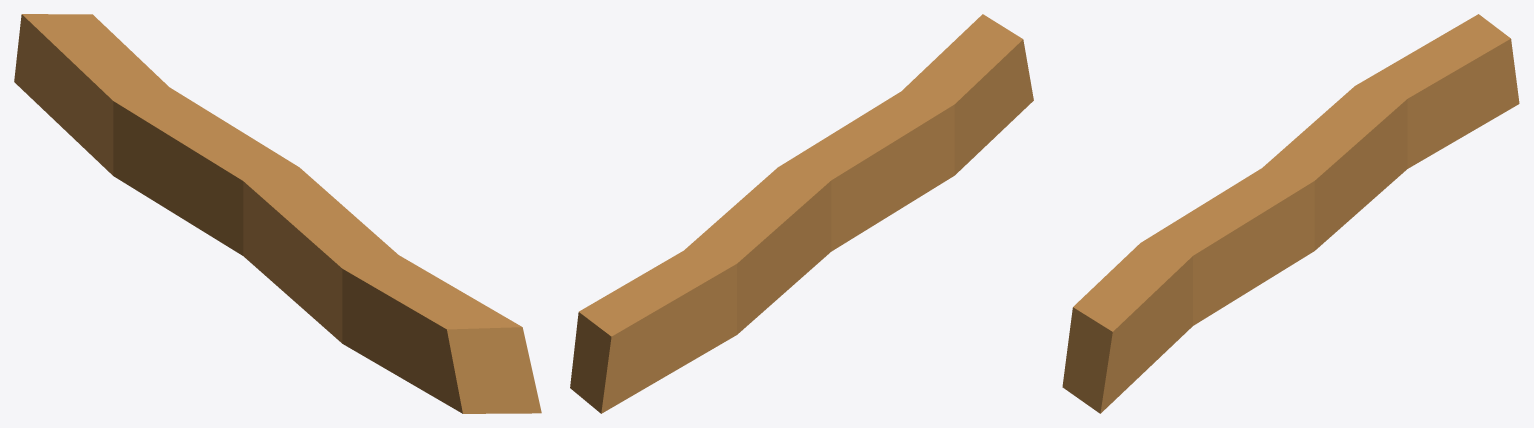
File: Fry_01.fbx
The picture shows the model from 3 angles, left to right: view 1: azimuth 30°, elevation 25°; view 2: azimuth 150°, elevation 25°; view 3: azimuth 330°, elevation 25°; orthographic projection. The views are drawn at different scales.
Parts seen in each view (by area): view 1: Fry_01; view 2: Fry_01; view 3: Fry_01.
Boxes of the visible parts, bbox=[...] form: Fry_01: bbox=[14, 14, 541, 413]; Fry_01: bbox=[570, 14, 1033, 413]; Fry_01: bbox=[1062, 14, 1519, 413].
Size of the model in its own units: 0.014 by 0.0128 by 0.146.
